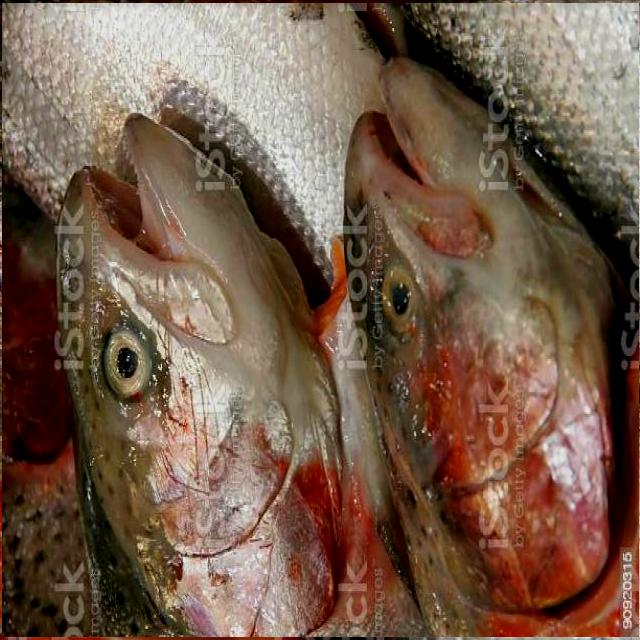EUS Disease: (3, 1, 640, 638), (16, 52, 351, 386), (0, 424, 377, 638)
